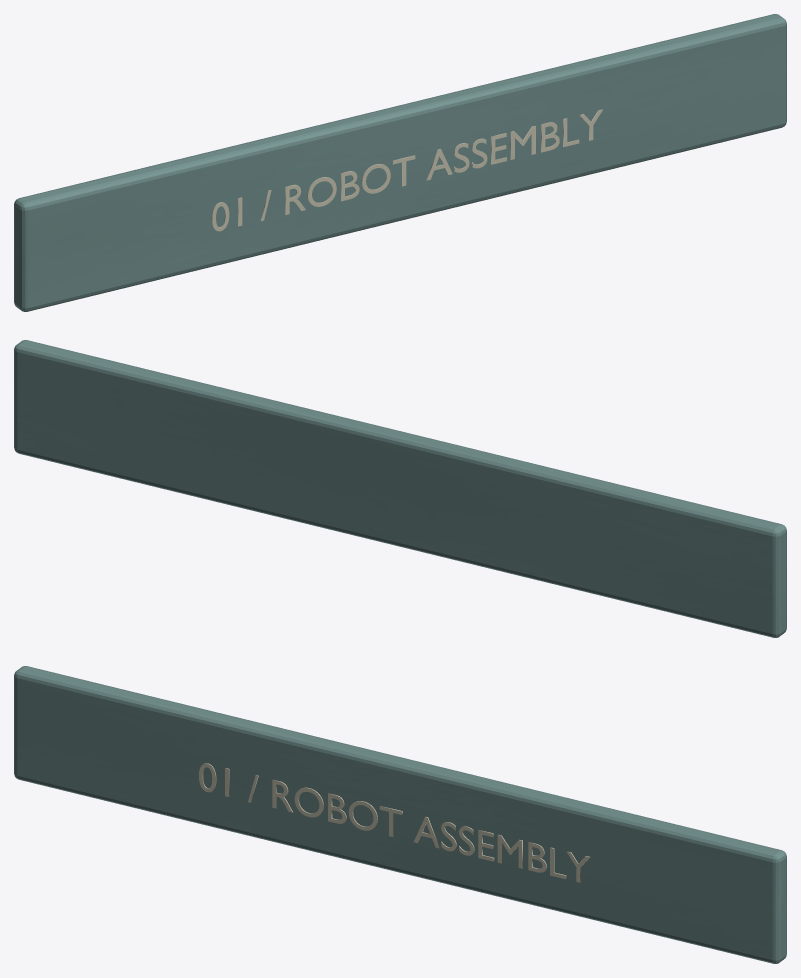
File: Sign_Assembly.glb
The picture shows the model from 3 angles, top to bottom: view 1: azimuth 30°, elevation 25°; view 2: azimuth 150°, elevation 25°; view 3: azimuth 330°, elevation 25°; orthographic projection.
Parts seen in each view (by area): view 1: Sign_Assembly; view 2: Sign_Assembly; view 3: Sign_Assembly.
Part boxes in pixels (bbox=[...]): Sign_Assembly: bbox=[14, 14, 786, 311]; Sign_Assembly: bbox=[14, 340, 786, 637]; Sign_Assembly: bbox=[14, 666, 786, 963].
Bounding box in the file's own units: 5.5 × 0.75 × 0.153.
2 materials, 2 textured.
